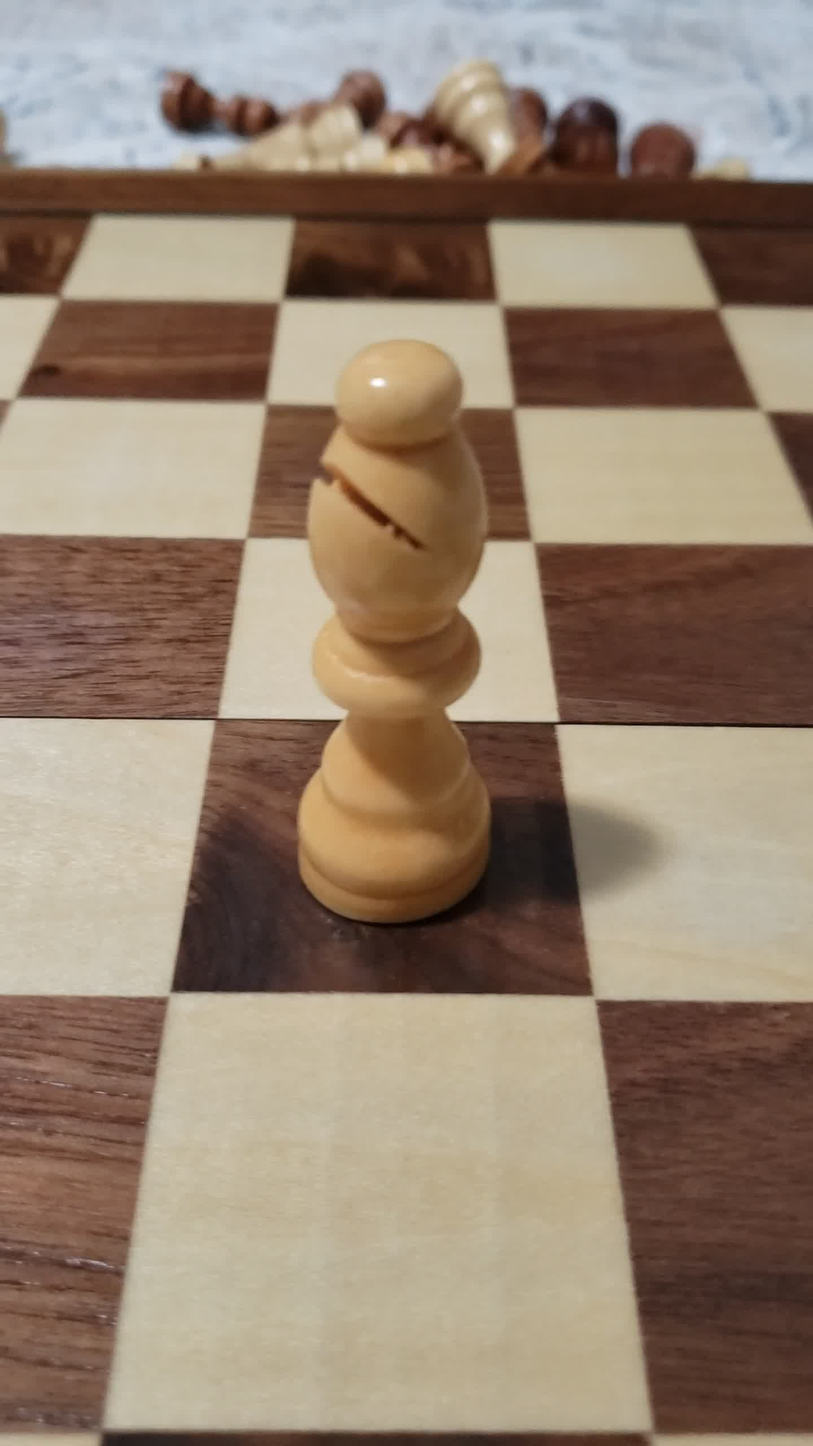white-bishop: (240, 317, 564, 958)
